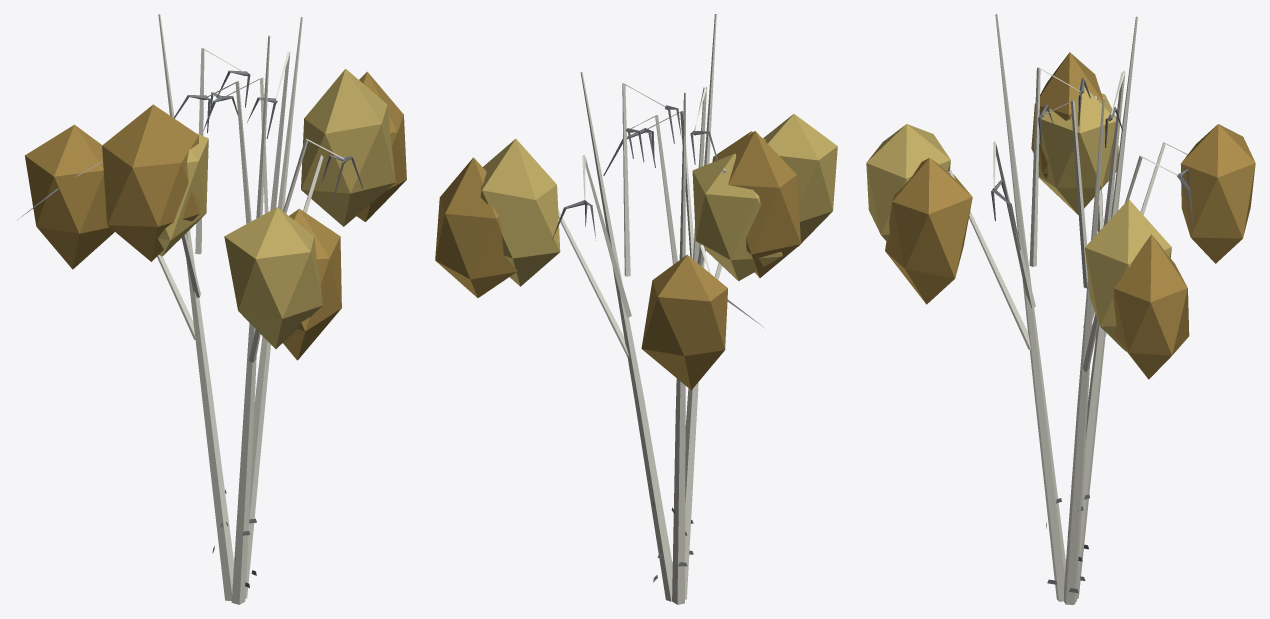
The model's file is birch_autumn_late_02.glb.
3 views of the same model, side by side, from view 1: azimuth 30°, elevation 25°; view 2: azimuth 150°, elevation 25°; view 3: azimuth 270°, elevation 25° (orthographic). The views are drawn at different scales.
Visible parts, largest first — view 1: Birch_autumn_late_02; view 2: Birch_autumn_late_02; view 3: Birch_autumn_late_02.
Boxes of the visible parts, <box> form: Birch_autumn_late_02: <box>17,14,406,604</box>; Birch_autumn_late_02: <box>435,14,837,604</box>; Birch_autumn_late_02: <box>866,14,1255,604</box>.
Size of the model in its own units: 9.85 by 15.14 by 9.14.
